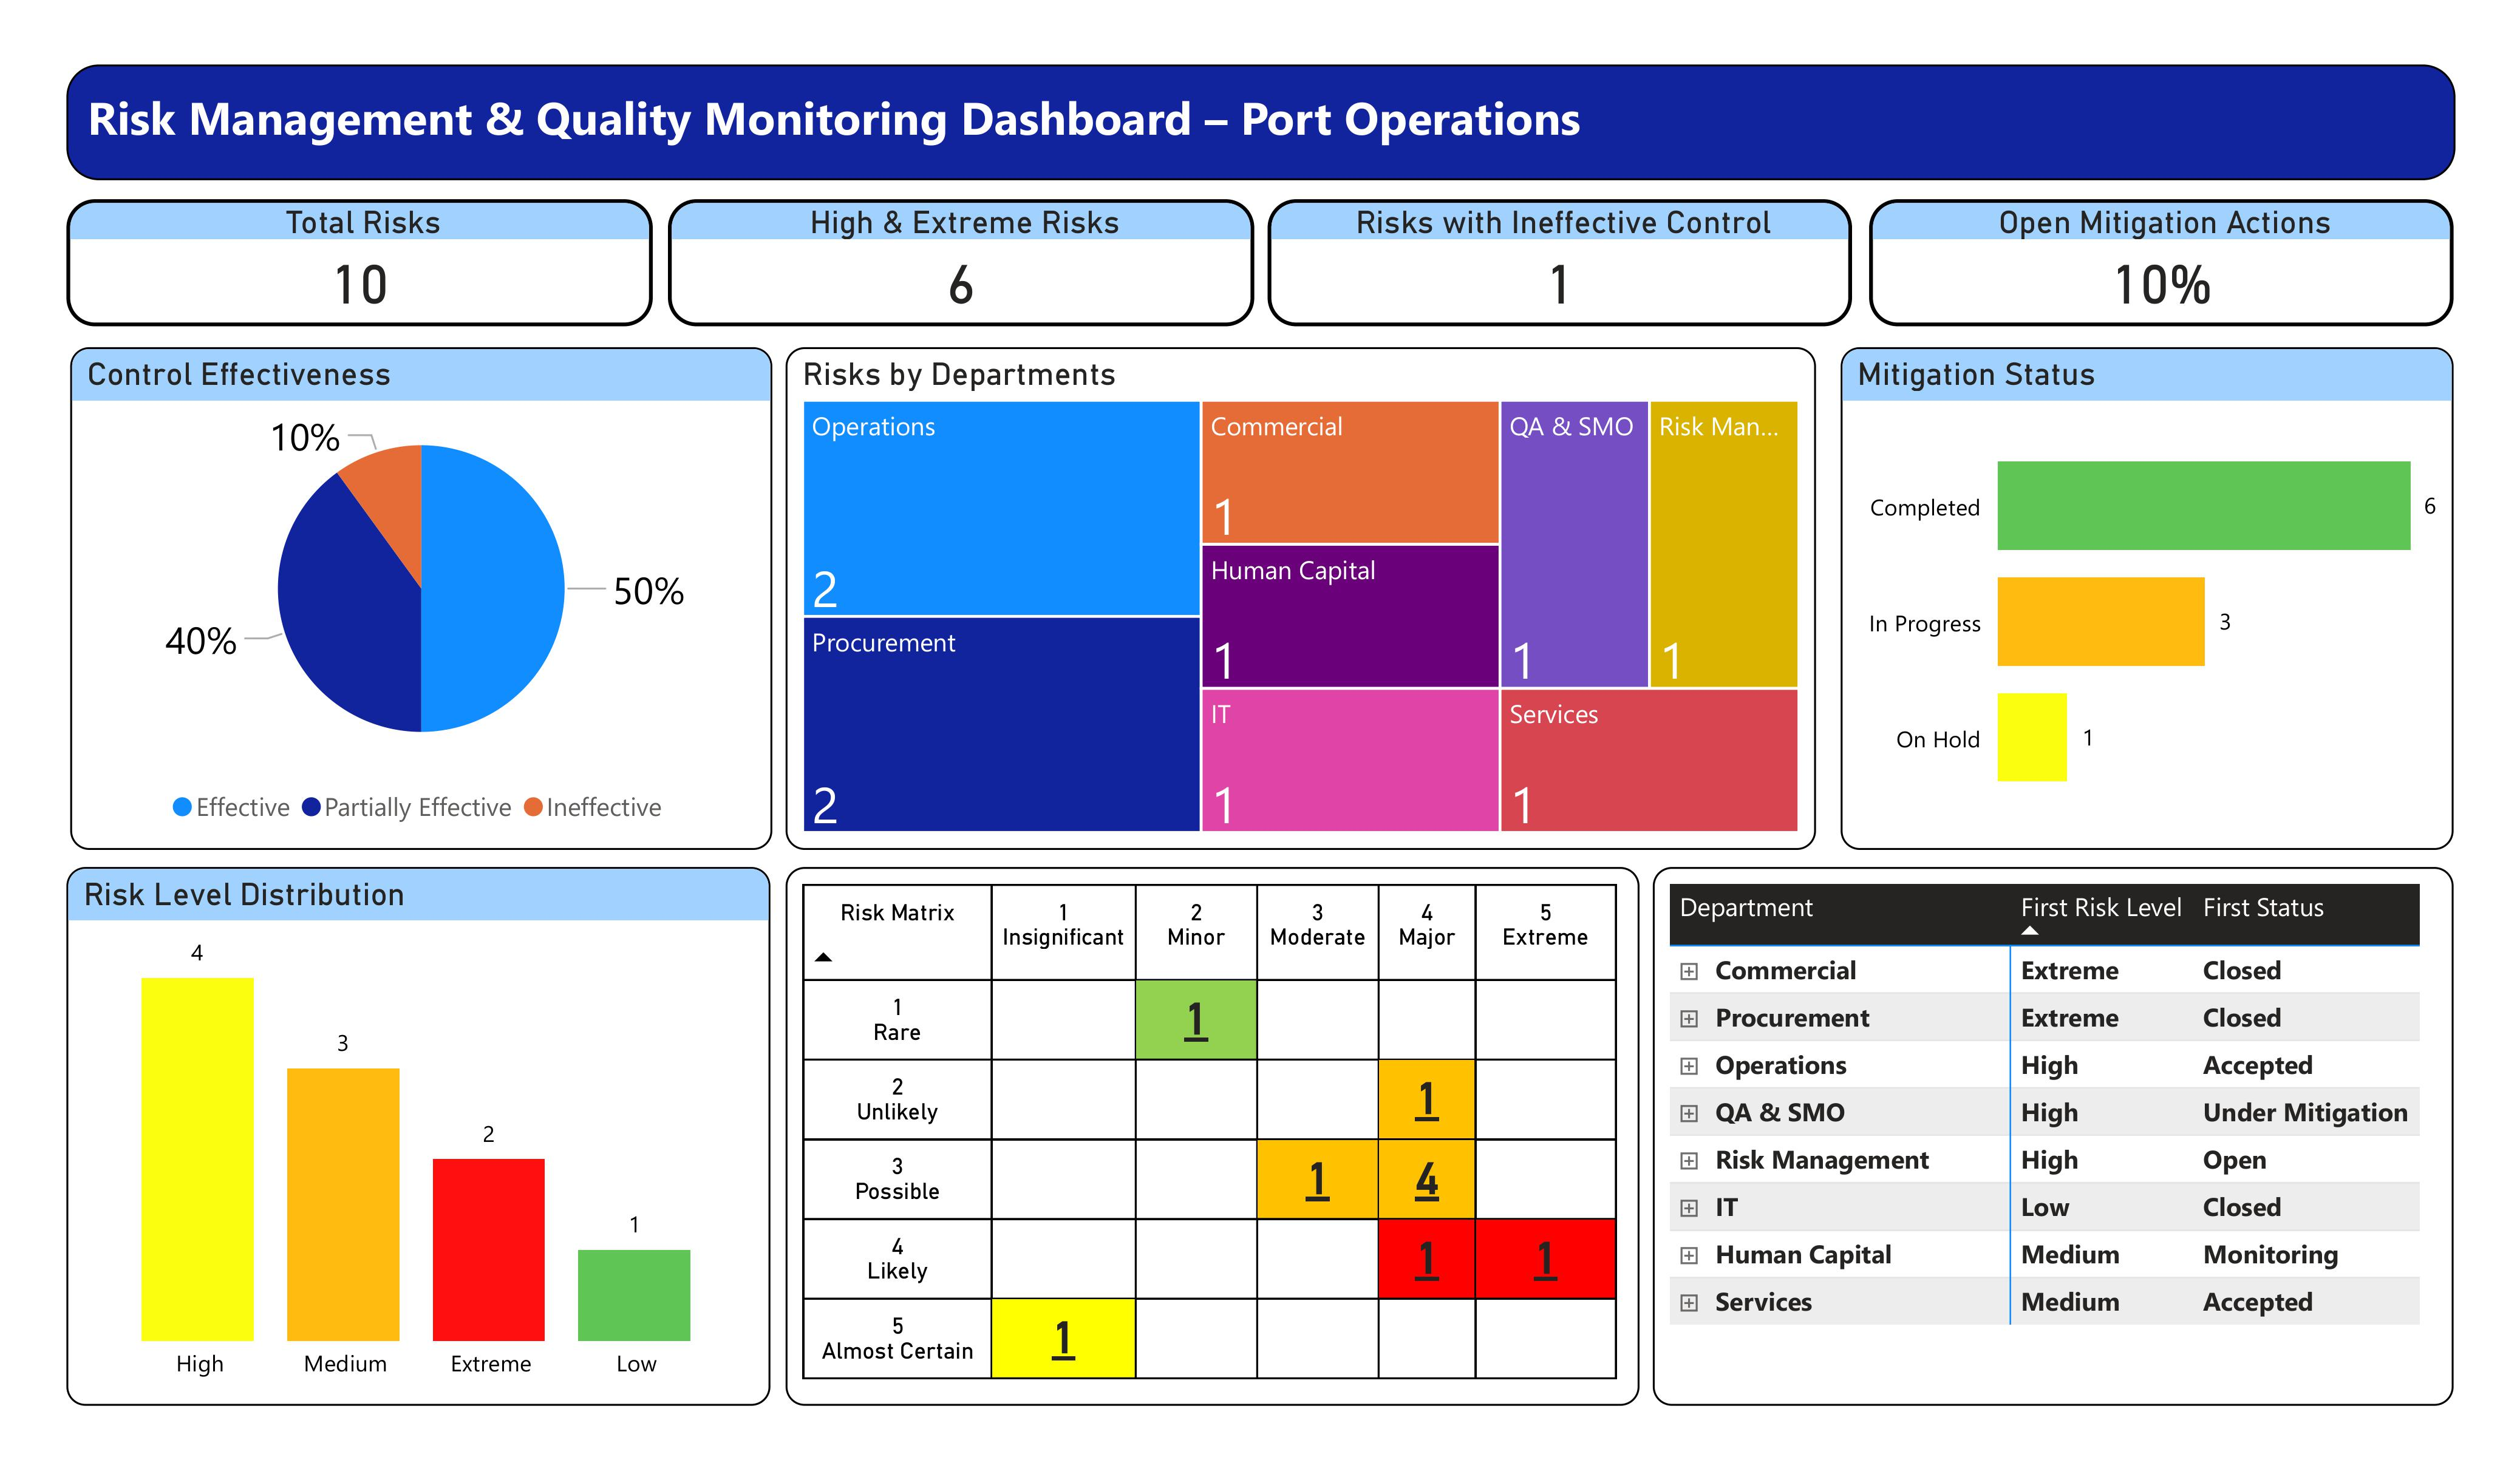

This screenshot's page, from the dashboard's own definition file:
{"tool":"powerbi","page":{"name":"Page 1","canvas":[1280,720],"ordinal":0},"visuals":[{"type":"treemap","title":"Risks by Departments","fields":{"Group":["Risk Assessment Matrix.Department"],"Values":["CountNonNull(Risk Assessment Matrix.Risk Level)"]},"box":[390.1,158.8,543.3,264.7],"z":0},{"type":"clusteredBarChart","title":"Mitigation Status","fields":{"Category":["Risk Assessment Matrix.Mitigation Status"],"Y":["CountNonNull(Risk Assessment Matrix.Risk ID)"]},"box":[945.9,158.8,323.2,264.7],"z":1000},{"type":"columnChart","title":"Risk Level Distribution","fields":{"Category":["Risk Assessment Matrix.Risk Level"],"Y":["CountNonNull(Risk Assessment Matrix.Risk ID)"]},"box":[11.1,433.3,370.6,284.2],"z":2000},{"type":"pieChart","title":"Control Effectiveness","fields":{"Category":["Risk Assessment Matrix.Control Effectiveness"],"Y":["CountNonNull(Risk Assessment Matrix.Risk ID)"]},"box":[12.5,158.8,370.6,264.7],"z":3000},{"type":"textbox","box":[11,10,1259,61],"z":4000},{"type":"card","title":"Total Risks","fields":{"Values":["CountNonNull(Risk Assessment Matrix.Risk ID)"]},"box":[11,81,308.7,67.2],"z":5000},{"type":"card","title":"High & Extreme Risks","fields":{"Values":["CountNonNull(Risk Assessment Matrix.Risk Level)"]},"box":[328,81,308.7,67.2],"z":6000},{"type":"card","title":"Risks with Ineffective Control","fields":{"Values":["CountNonNull(Risk Assessment Matrix.Control Effectiveness)"]},"box":[643.6,81,308.7,67.2],"z":7000},{"type":"card","title":"Open Mitigation Actions","fields":{"Values":["select","Table1.Open Risk %"]},"box":[960.6,81,308.7,67.2],"z":8000},{"type":"pivotTable","fields":{"Rows":["Table1.Rows Headers"],"Columns":["Table1.Column Headers"],"Values":["CountNonNull(Table1.Risk Score)"]},"box":[390.1,433.3,450,284.2],"z":9000},{"type":"pivotTable","fields":{"Rows":["Table1.Department","Table1.Risk Title"],"Values":["Min(Table1.Risk Level)","Min(Table1.Status)"]},"box":[847,433.3,422.1,284.2],"z":10000}]}

Visuals, with their boxes in screenshot pixels (x1, y1, x2, y2):
"Risks by Departments" treemap: [left=796, top=337, right=1814, bottom=832]
"Mitigation Status" clusteredBarChart: [left=1837, top=337, right=2442, bottom=832]
"Risk Level Distribution" columnChart: [left=86, top=851, right=780, bottom=1383]
"Control Effectiveness" pieChart: [left=89, top=337, right=783, bottom=832]
textbox: [left=86, top=58, right=2444, bottom=172]
"Total Risks" card: [left=86, top=191, right=664, bottom=317]
"High & Extreme Risks" card: [left=680, top=191, right=1258, bottom=317]
"Risks with Ineffective Control" card: [left=1271, top=191, right=1849, bottom=317]
"Open Mitigation Actions" card: [left=1865, top=191, right=2443, bottom=317]
pivotTable - Table1.Rows Headers x Table1.Column Headers: [left=796, top=851, right=1639, bottom=1383]
pivotTable - Table1.Department x Table1.Risk Title: [left=1652, top=851, right=2442, bottom=1383]
